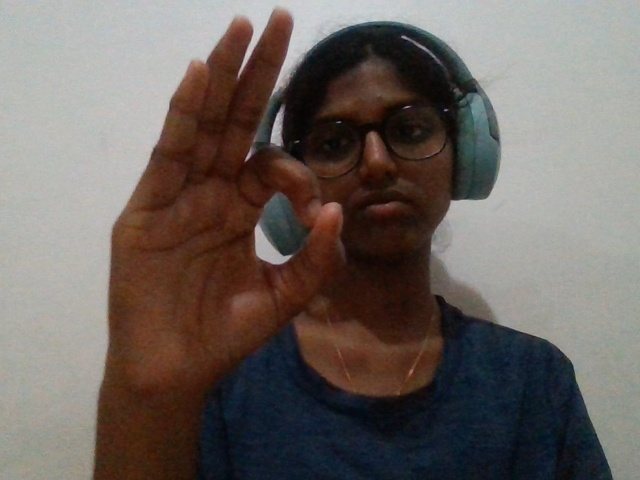F: (86, 4, 365, 480)
